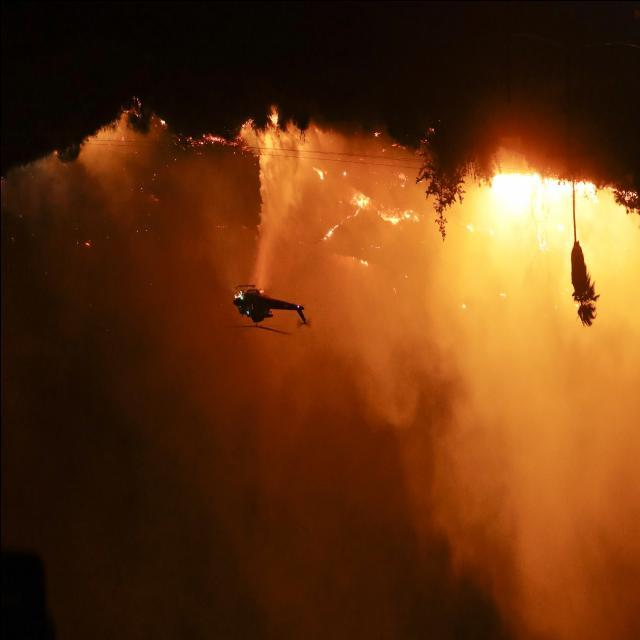Fire: (468, 168, 594, 262), (192, 111, 292, 154), (344, 176, 421, 230)
